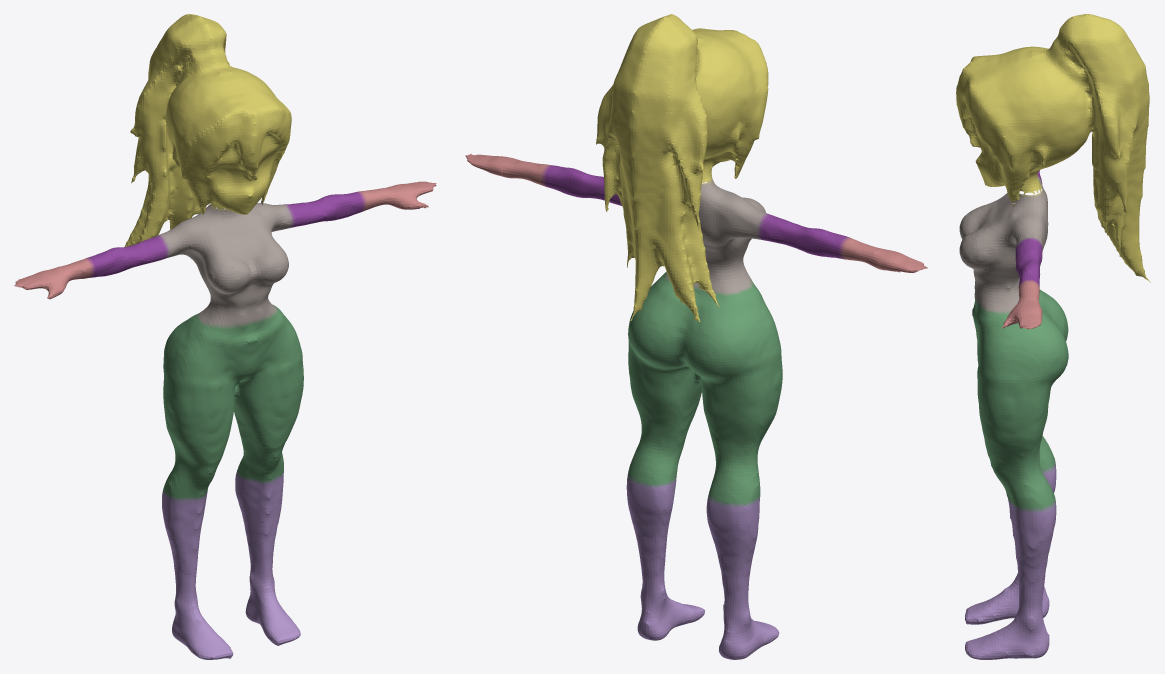
File: test_head_torso.glb
3 renders of one model, left to right at view 1: azimuth 30°, elevation 25°; view 2: azimuth 150°, elevation 25°; view 3: azimuth 270°, elevation 25°, orthographic. The views are drawn at different scales.
Parts seen in each view (by area): view 1: Part_TORSO, Part_HEAD_HAIR; view 2: Part_TORSO, Part_HEAD_HAIR; view 3: Part_TORSO, Part_HEAD_HAIR.
Part boxes in pixels (x1=…): Part_TORSO: x1=14, y1=177, x2=436, y2=659; Part_HEAD_HAIR: x1=124, y1=14, x2=291, y2=247; Part_TORSO: x1=465, y1=153, x2=927, y2=659; Part_HEAD_HAIR: x1=596, y1=14, x2=768, y2=321; Part_TORSO: x1=959, y1=170, x2=1139, y2=659; Part_HEAD_HAIR: x1=956, y1=14, x2=1150, y2=282.
Bounding box in the file's own units: 1.46 × 1.96 × 0.5555.
